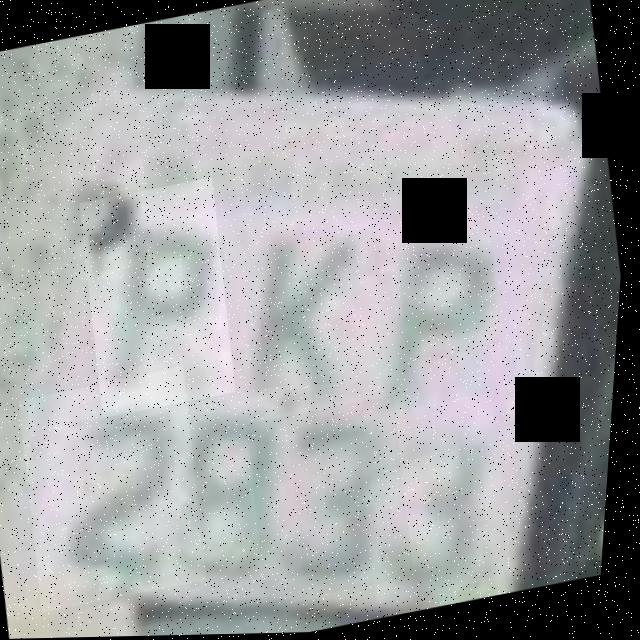2: (13, 368, 225, 613)
3: (242, 396, 431, 607), (352, 394, 529, 605)
8: (139, 385, 321, 602)
N: (200, 188, 402, 409)
P: (70, 177, 252, 420), (355, 201, 528, 427)
